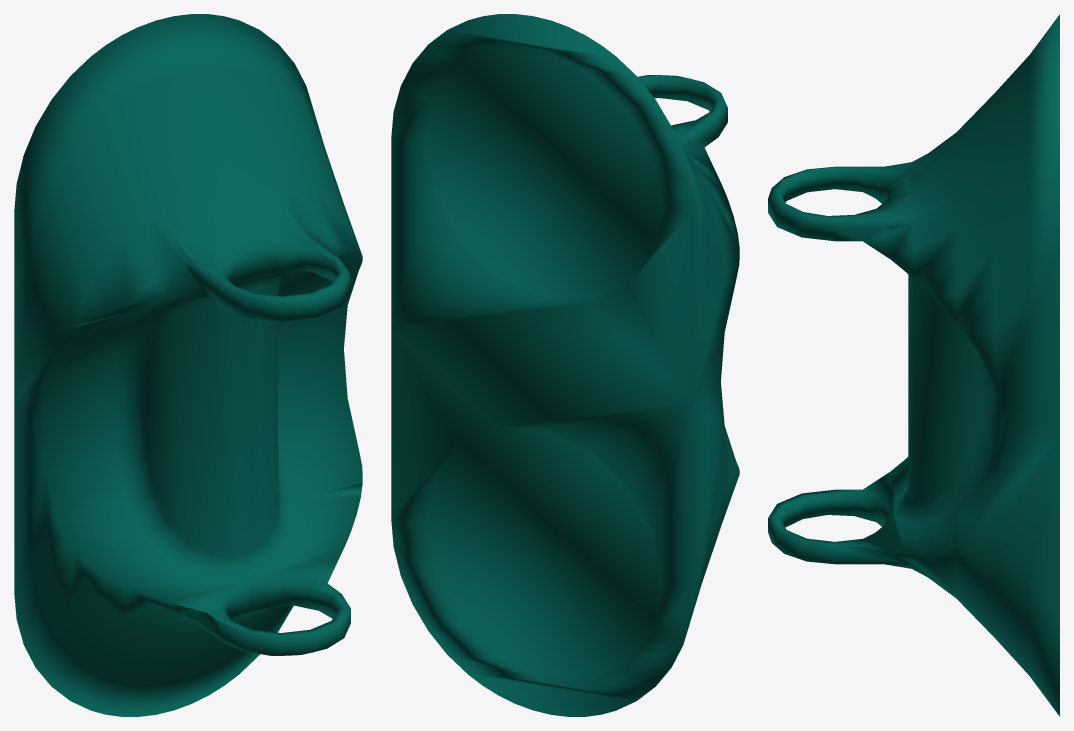
Rendered from n_hals_unten.obj.
The picture shows the model from 3 angles, left to right: view 1: azimuth 30°, elevation 25°; view 2: azimuth 150°, elevation 25°; view 3: azimuth 270°, elevation 25°; orthographic projection. The views are drawn at different scales.
Bounding box in the file's own units: 0.15 × 0.3297 × 0.13.
